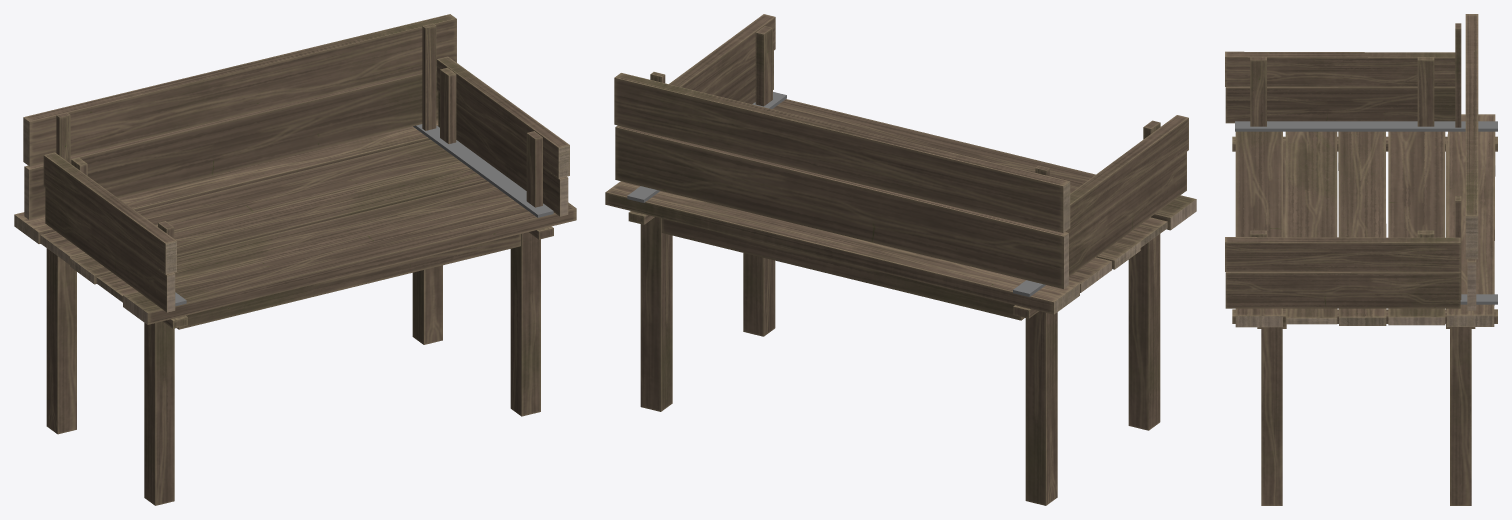
File: SM_table_02.fbx
3 views of the same model, side by side, from view 1: azimuth 30°, elevation 25°; view 2: azimuth 150°, elevation 25°; view 3: azimuth 270°, elevation 25° (orthographic). The views are drawn at different scales.
Visible parts, largest first — view 1: Object32475; view 2: Object32475; view 3: Object32475.
Boxes of the visible parts, x1,y1,x2,y2 form: Object32475: (14,14,576,505); Object32475: (605,14,1196,505); Object32475: (1225,14,1497,505).
Size of the model in its own units: 71.31 by 49.82 by 40.64.
